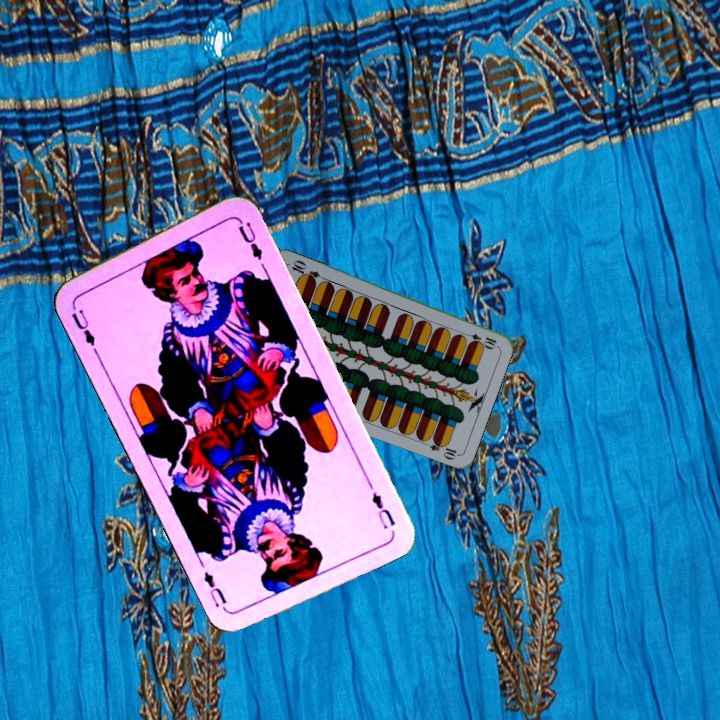E10: (459, 329, 499, 350)
EU: (67, 299, 98, 349), (367, 488, 398, 532)
